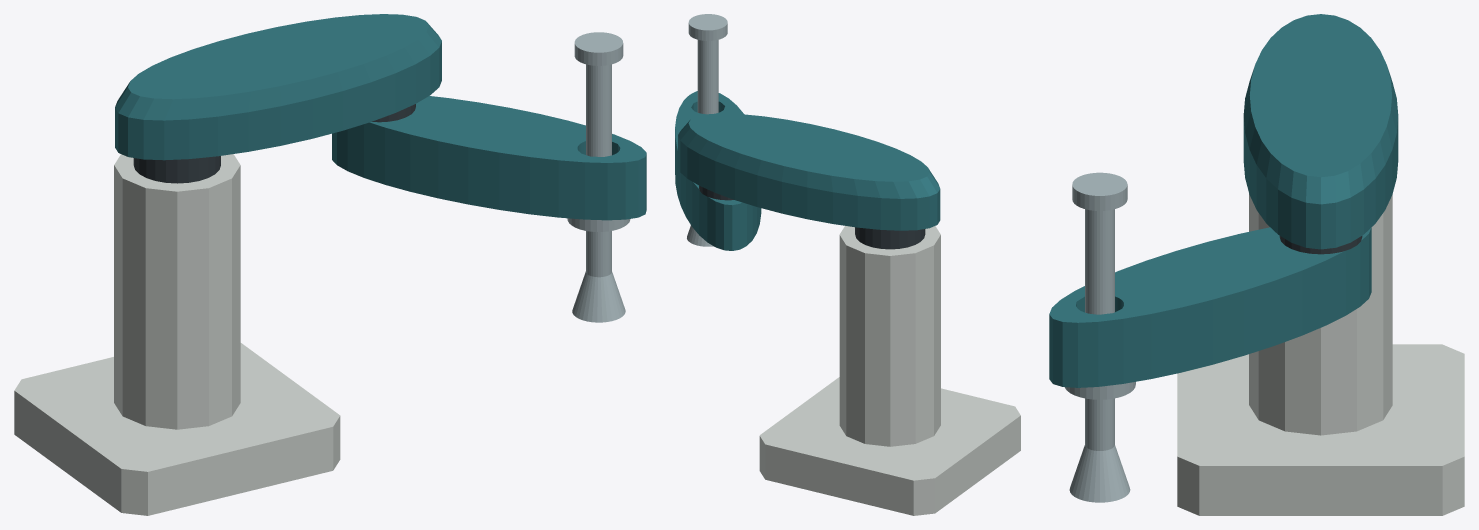
3 views of the same model, side by side, from view 1: azimuth 30°, elevation 25°; view 2: azimuth 150°, elevation 25°; view 3: azimuth 270°, elevation 25° (orthographic). The views are drawn at different scales.
Visible parts, largest first — view 1: WholeRaisedHorizontalProximalCase, WholeTallFacetedPedestal, WholeChamferedGroundPlinth, WholeLowerHorizontalGuideCase, WholeThroughQuillAndOpenEndCup, WholeVerticalShoulderSeat; view 2: WholeRaisedHorizontalProximalCase, WholeTallFacetedPedestal, WholeChamferedGroundPlinth, WholeLowerHorizontalGuideCase, WholeThroughQuillAndOpenEndCup, WholeVerticalShoulderSeat; view 3: WholeChamferedGroundPlinth, WholeLowerHorizontalGuideCase, WholeRaisedHorizontalProximalCase, WholeTallFacetedPedestal, WholeThroughQuillAndOpenEndCup, WholeVerticalElbowSeat.
Boxes of the visible parts, x1,y1,x2,y2 form: WholeRaisedHorizontalProximalCase: (115, 14, 441, 160); WholeTallFacetedPedestal: (114, 154, 240, 429); WholeChamferedGroundPlinth: (14, 343, 340, 515); WholeLowerHorizontalGuideCase: (332, 96, 646, 220); WholeThroughQuillAndOpenEndCup: (567, 32, 630, 322); WholeVerticalShoulderSeat: (133, 156, 220, 183); WholeRaisedHorizontalProximalCase: (678, 113, 940, 230); WholeTallFacetedPedestal: (839, 226, 940, 446); WholeChamferedGroundPlinth: (759, 377, 1020, 515); WholeLowerHorizontalGuideCase: (675, 91, 761, 250); WholeThroughQuillAndOpenEndCup: (687, 14, 727, 246); WholeVerticalShoulderSeat: (855, 227, 925, 249); WholeChamferedGroundPlinth: (1177, 344, 1464, 515); WholeLowerHorizontalGuideCase: (1049, 227, 1371, 387); WholeRaisedHorizontalProximalCase: (1243, 14, 1398, 249); WholeTallFacetedPedestal: (1249, 193, 1392, 435); WholeThroughQuillAndOpenEndCup: (1064, 172, 1135, 502); WholeVerticalElbowSeat: (1279, 236, 1362, 254).
Size of the model in its own units: 1.11 by 0.9 by 0.7516.
